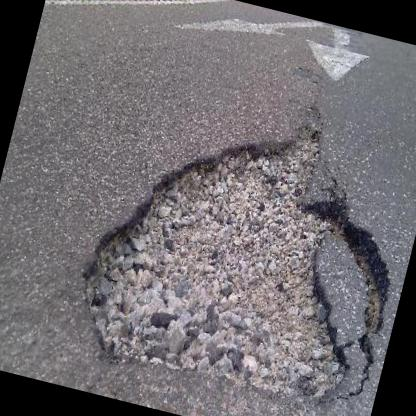pothole: (60, 67, 416, 416)
